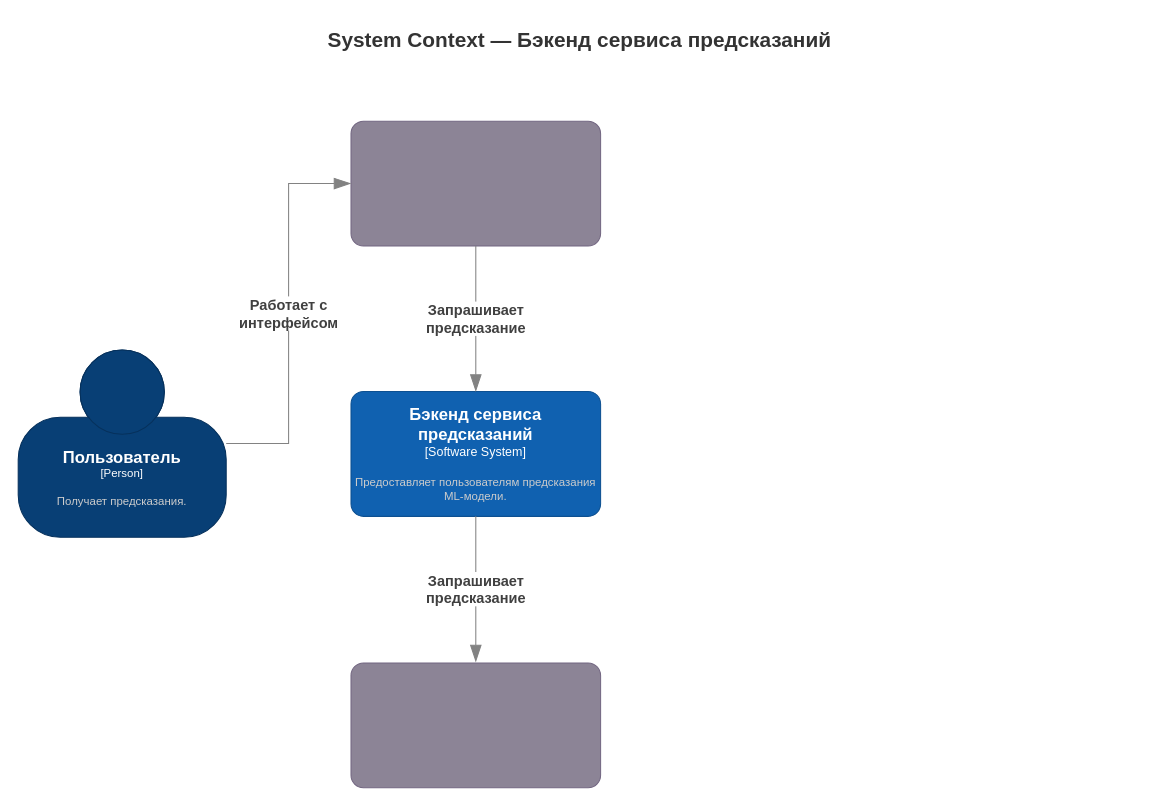
Some shapes in this 1160 by 806 pixel diagram are drawn without their labels. Each missing label, with the box of its shape:
ML-модель [External Software System] Выдаёт предсказания по входным данным.: (350, 662, 601, 788)
Веб-приложение [External Software System] Интерфейс для работы с предсказаниями.: (350, 120, 601, 246)
